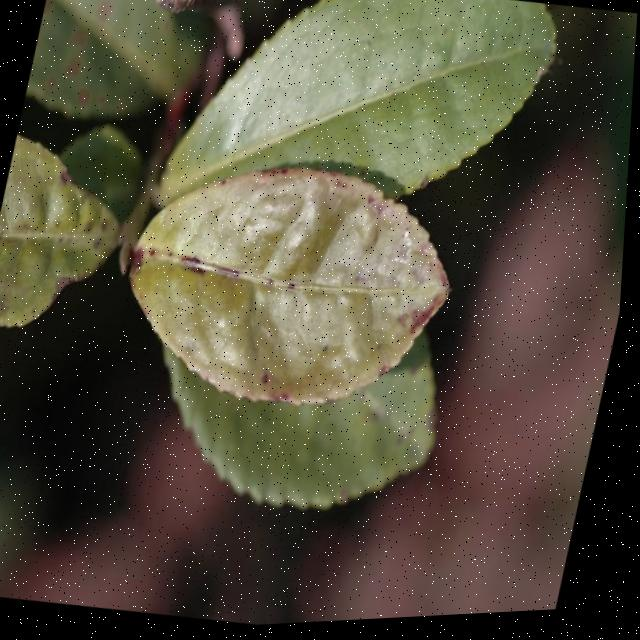Tea red scab: (191, 156, 473, 440)
